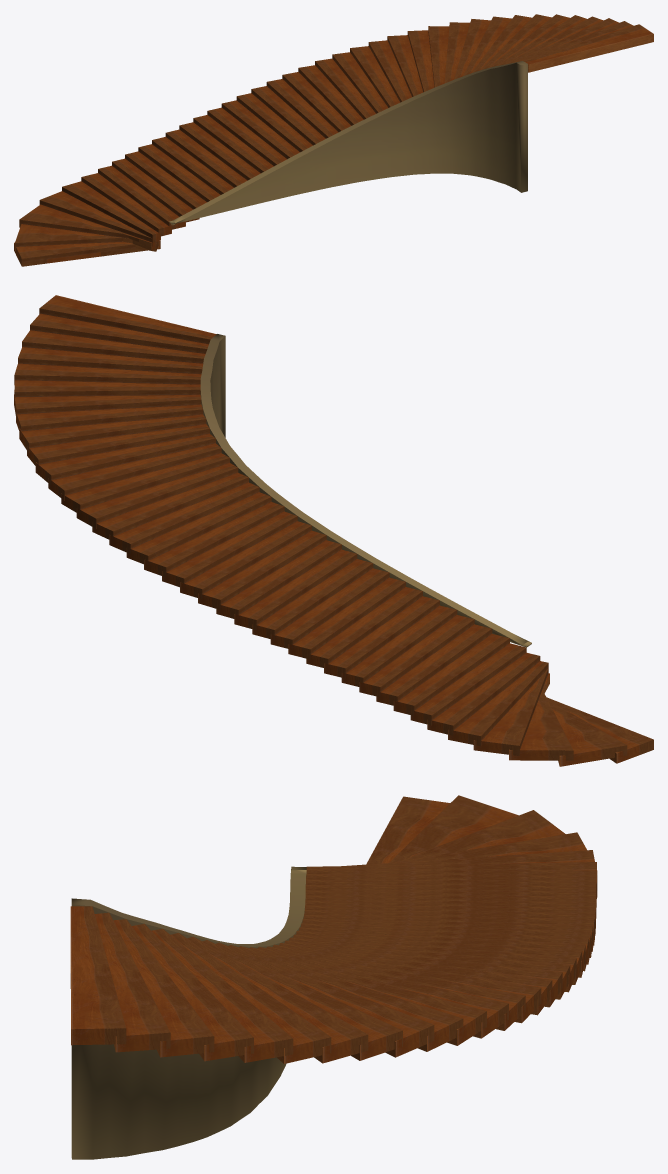
The model's file is SmallCurvedStaircase.fbx.
The picture shows the model from 3 angles, top to bottom: view 1: azimuth 30°, elevation 25°; view 2: azimuth 150°, elevation 25°; view 3: azimuth 270°, elevation 25°; orthographic projection. The views are drawn at different scales.
Parts seen in each view (by area): view 1: SmallCurvedStaircase, SmallCurvedStaircaseCaps; view 2: SmallCurvedStaircase, SmallCurvedStaircaseCaps; view 3: SmallCurvedStaircase, SmallCurvedStaircaseCaps.
Boxes of the visible parts, x1,y1,x2,y2 form: SmallCurvedStaircase: (14, 14, 653, 266); SmallCurvedStaircaseCaps: (169, 61, 527, 224); SmallCurvedStaircase: (14, 295, 653, 766); SmallCurvedStaircaseCaps: (200, 334, 531, 647); SmallCurvedStaircase: (70, 795, 597, 1063); SmallCurvedStaircaseCaps: (71, 866, 306, 1159).
Size of what is drawn, in the model's own units: 7465 by 2082 by 3101.
